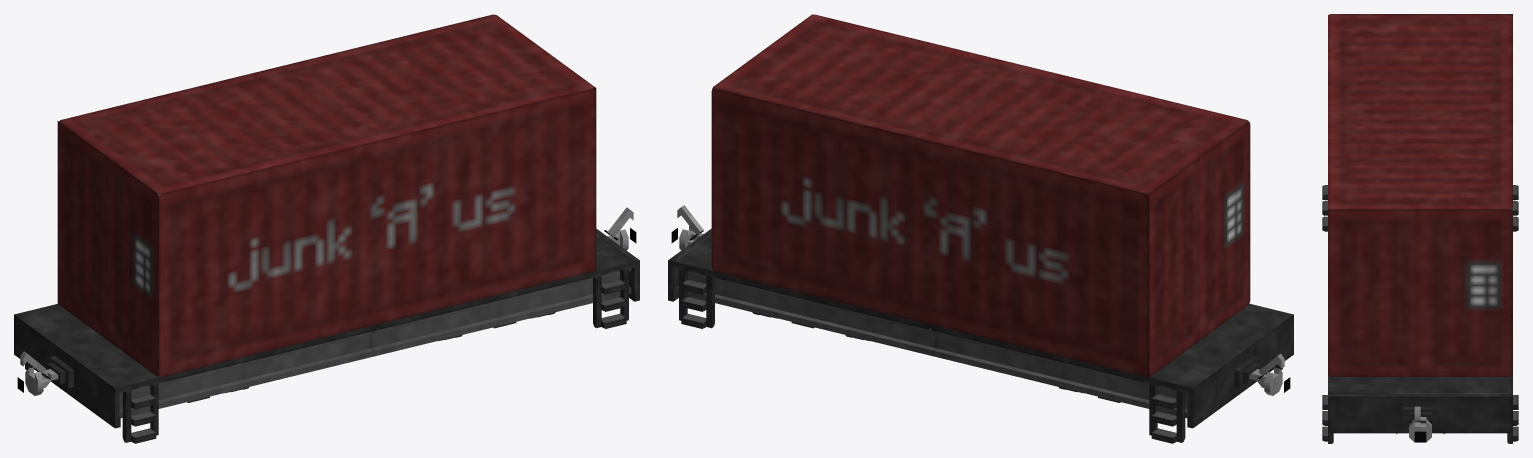
The model's file is kitsune_stormpeak_flat_wagon.obj.
The picture shows the model from 3 angles, left to right: view 1: azimuth 30°, elevation 25°; view 2: azimuth 150°, elevation 25°; view 3: azimuth 270°, elevation 25°; orthographic projection. The views are drawn at different scales.
Parts seen in each view (by area): view 1: CARGO_FILL_1_Cube, FRAME_Cube.007, COUPLER_ENGAGED_FRONT_1_TOGGLE_LABEL_Uncouple_Cube.002; view 2: CARGO_FILL_1_Cube, FRAME_Cube.007, COUPLER_ENGAGED_FRONT_1_TOGGLE_LABEL_Uncouple_Cube.002; view 3: CARGO_FILL_1_Cube, FRAME_Cube.007, COUPLER_ENGAGED_REAR_2_TOGGLE_LABEL_Uncouple_Cube.002.
Part boxes in pixels (<box>): CARGO_FILL_1_Cube: <box>57,14,596,376</box>; FRAME_Cube.007: <box>14,228,639,443</box>; COUPLER_ENGAGED_FRONT_1_TOGGLE_LABEL_Uncouple_Cube.002: <box>17,356,73,395</box>; CARGO_FILL_1_Cube: <box>711,14,1250,377</box>; FRAME_Cube.007: <box>668,228,1293,443</box>; COUPLER_ENGAGED_FRONT_1_TOGGLE_LABEL_Uncouple_Cube.002: <box>1234,356,1290,395</box>; CARGO_FILL_1_Cube: <box>1328,14,1512,376</box>; FRAME_Cube.007: <box>1322,185,1518,443</box>; COUPLER_ENGAGED_REAR_2_TOGGLE_LABEL_Uncouple_Cube.002: <box>1403,407,1437,442</box>.
Bounding box in the file's own units: 7 × 2.75 × 2.12.
Materials: 4 (4 with a texture image).
